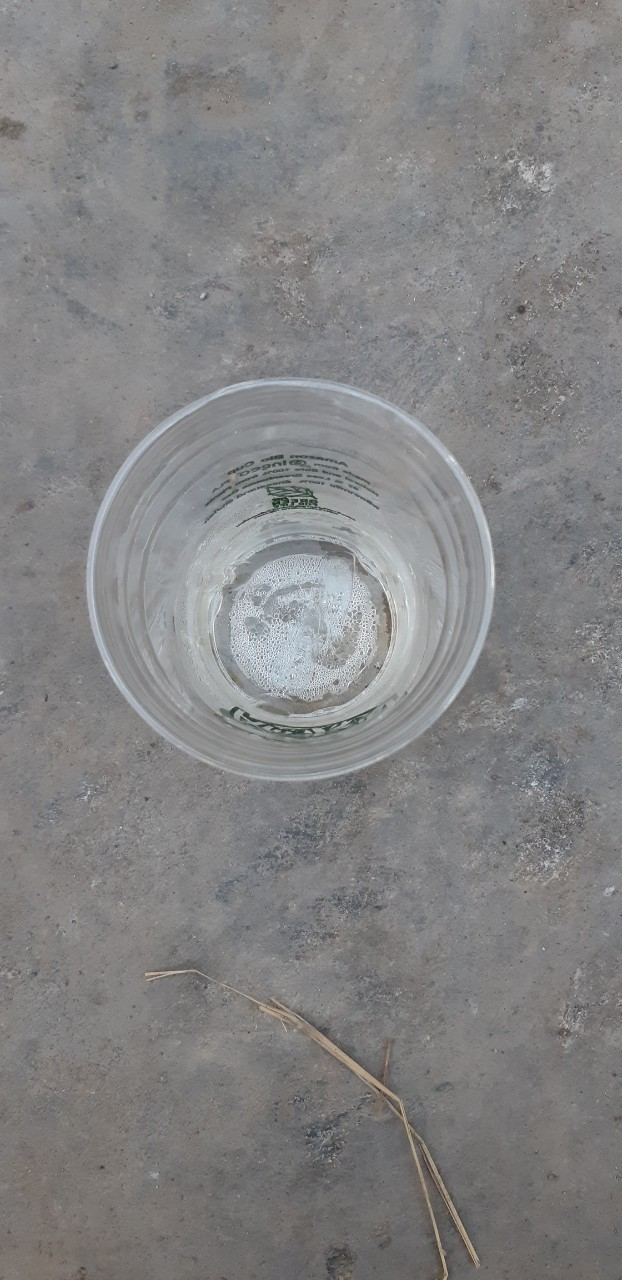PlasticCup: (81, 372, 502, 794)
